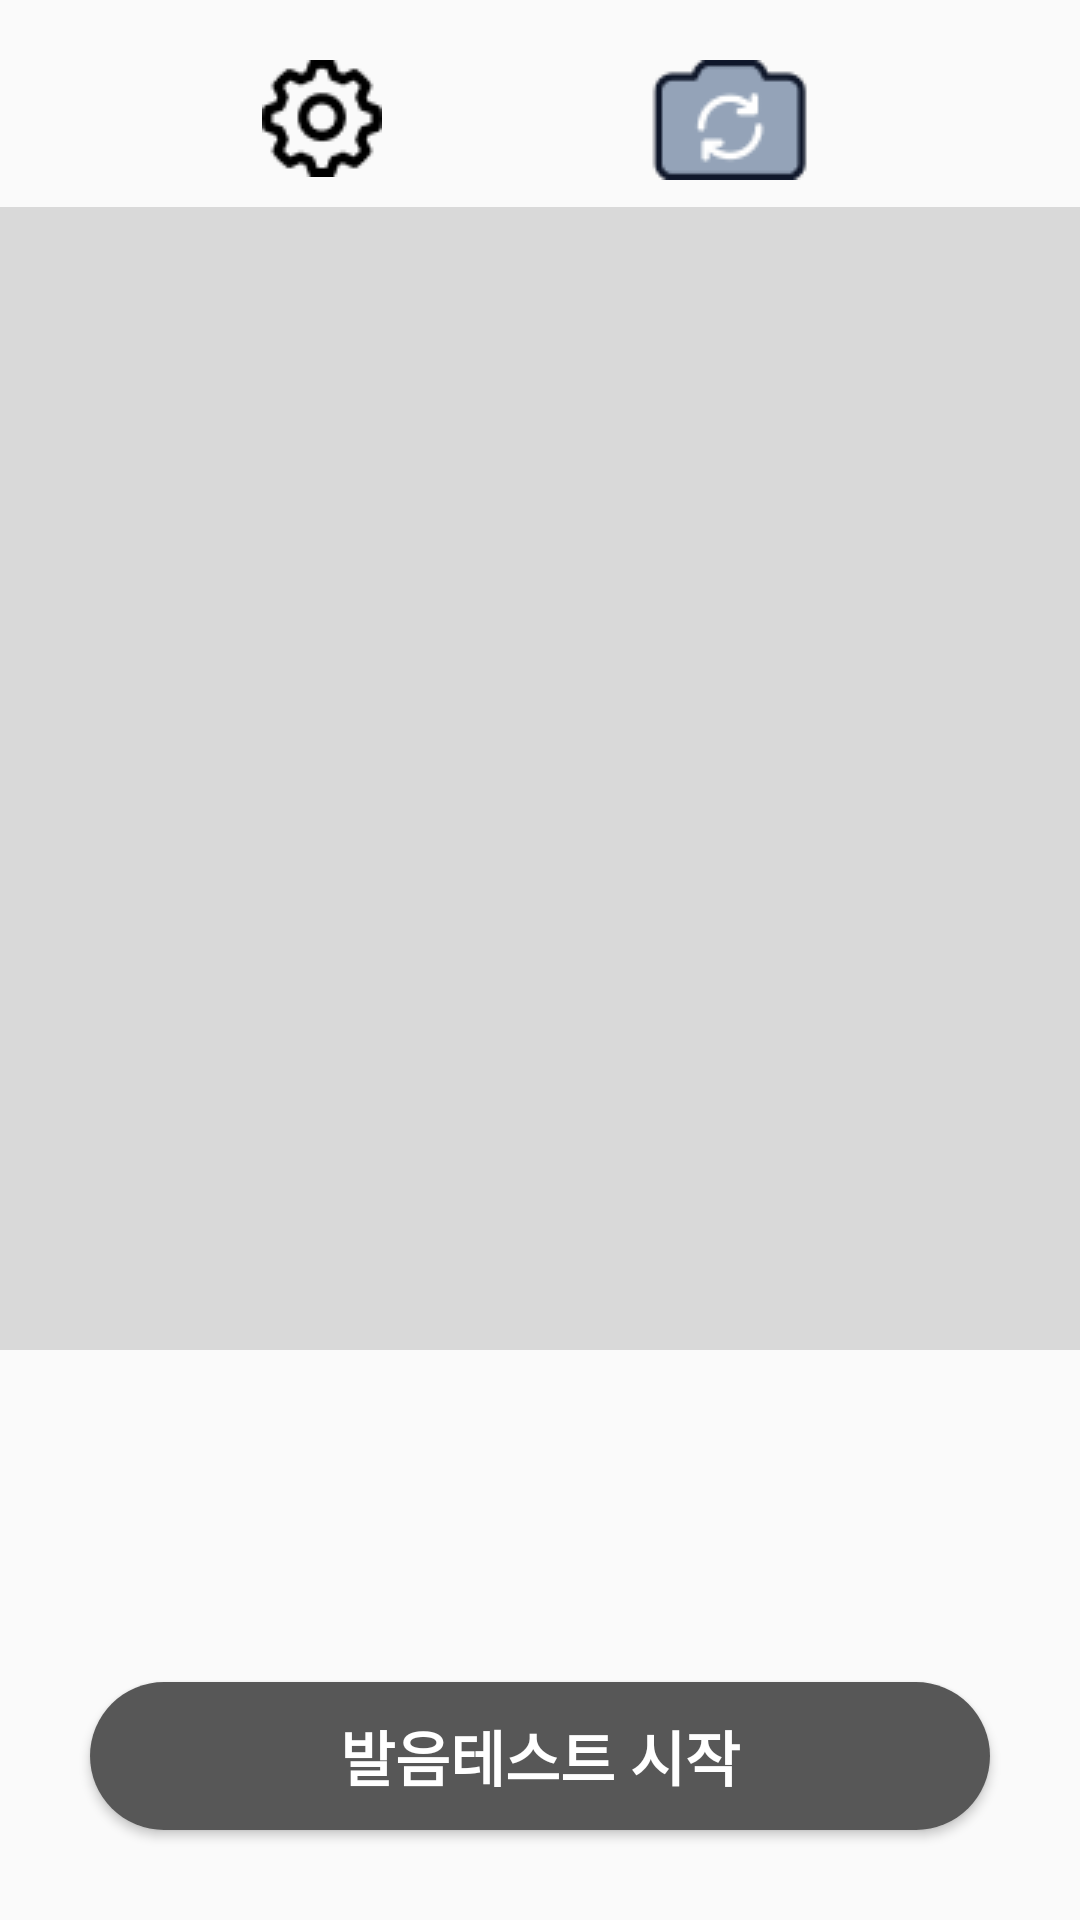

Screen size 1080*1920. Icon name, then its center in pixels as point (x, y):
camerachange: point (729, 120)
setting: point (322, 118)
